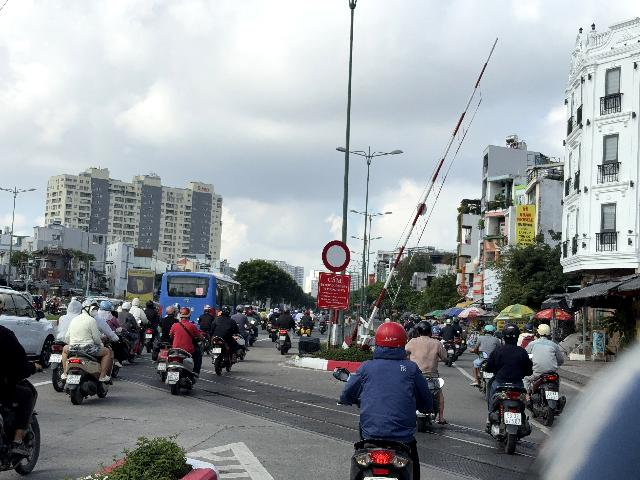duong-cam: (322, 240, 350, 272)
